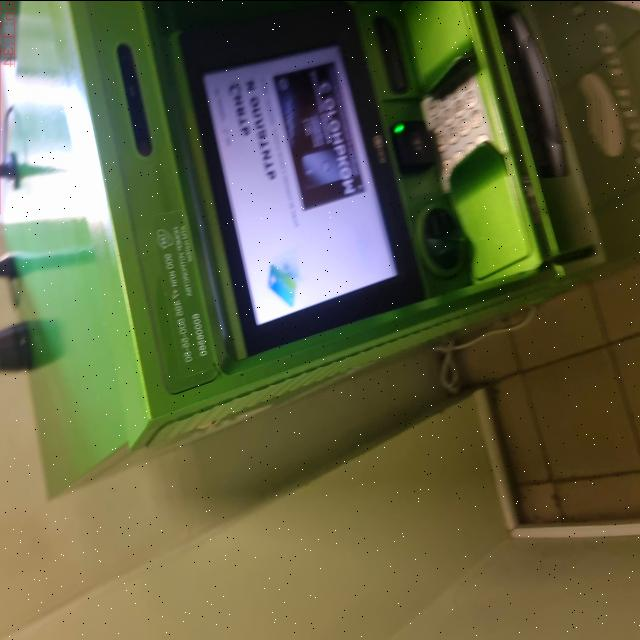bank: (2, 0, 640, 509)
